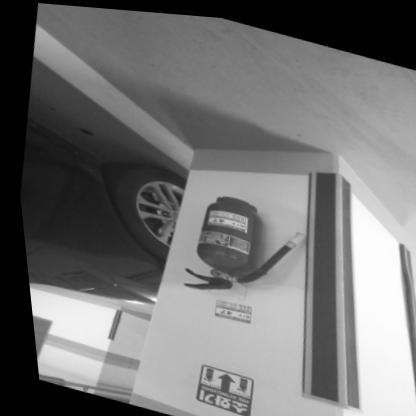FE: (167, 181, 307, 312)
